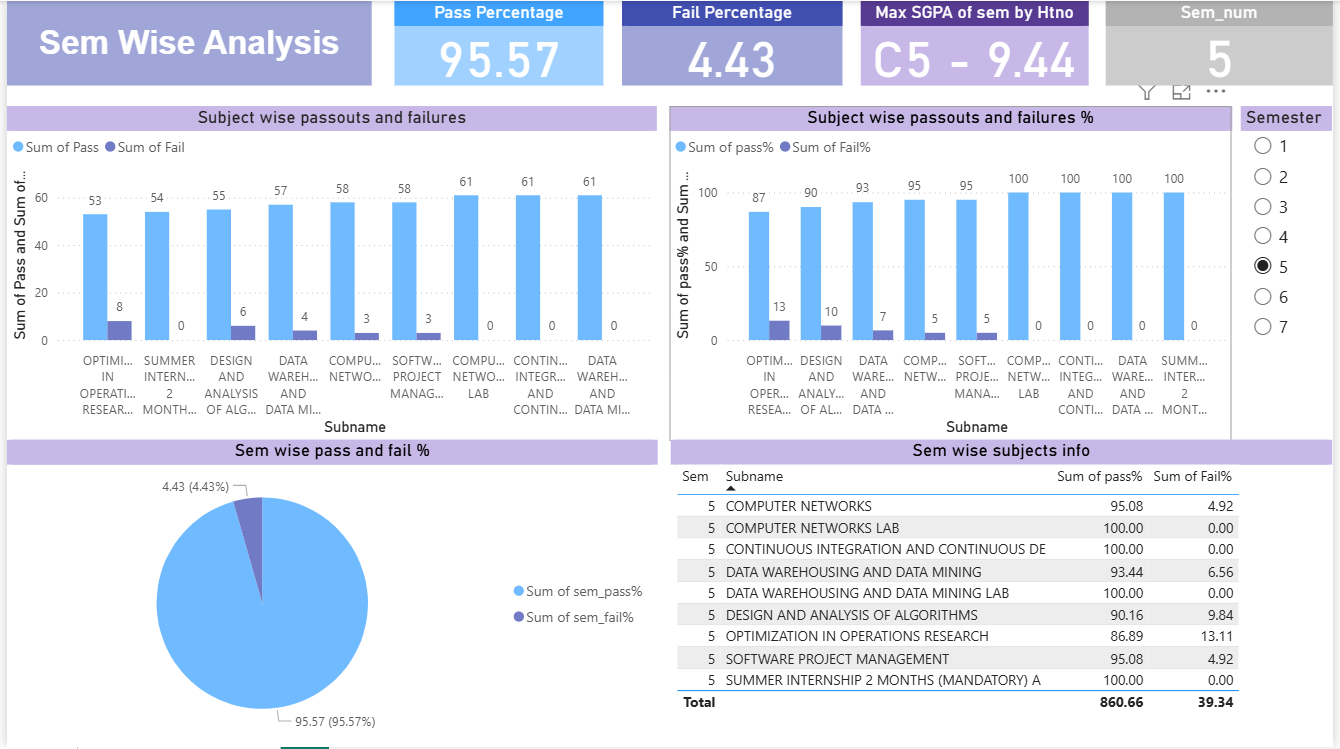

The dashboard page shown, as its layout file describes it:
{"tool":"powerbi","page":{"name":"Management_Analysis","canvas":[1280,720],"ordinal":1},"visuals":[{"type":"clusteredColumnChart","title":"Subject wise passouts and failures","fields":{"Category":["sem.Subname"],"Y":["Sum(sem.Pass)","Sum(sem.Fail)"]},"box":[0,101.5,627.3,322.8],"z":0},{"type":"clusteredColumnChart","title":"Subject wise passouts and failures %","fields":{"Category":["sem.Subname"],"Y":["Sum(subject_wise_performance.pass%)","Sum(subject_wise_performance.Fail%)"]},"box":[639.5,101.5,542.9,322.8],"z":1000},{"type":"pieChart","title":"Sem wise pass and fail %","fields":{"Y":["Sum(sem_percentage.Pass%)","Sum(sem_percentage.Fail%)"]},"box":[0,424,628.1,296.6],"z":2000},{"type":"slicer","title":"Semester","fields":{"Values":["sem_percentage.Sem"]},"box":[1191,101.5,88,322.8],"z":3000},{"type":"card","title":"Sem_num","fields":{"Values":["Max(sem_percentage.Sem)"]},"box":[1060.2,0,218.9,81.9],"z":4000},{"type":"tableEx","title":"Sem wise subjects info","fields":{"Values":["subject_wise_performance.Sem","subject_wise_performance.Subname","Sum(subject_wise_performance.pass%)","Sum(subject_wise_performance.Fail%)"]},"box":[640.4,424,638.6,296.6],"z":5000},{"type":"textbox","box":[0,0,352.2,81.9],"z":6000},{"type":"card","title":"Pass Percentage","fields":{"Values":["Sum(sem_wise_performance.sem_pass%)"]},"box":[374.2,0,201.8,81.9],"z":7000},{"type":"card","title":"Fail Percentage","fields":{"Values":["Sum(sem_wise_performance.sem_fail%)"]},"box":[593.1,0,212.8,81.9],"z":8000},{"type":"card","title":"Max SGPA of sem by Htno","fields":{"Values":["All_sems.Top_Performer"]},"box":[824.2,0,220.1,81.9],"z":8001}]}

Visuals, with their boxes in screenshot pixels (x1, y1, x2, y2), scaled from the page's 1280x720 canvas onto the 1340x749 screenshot:
"Subject wise passouts and failures" clusteredColumnChart: locate(0, 106, 657, 441)
"Subject wise passouts and failures %" clusteredColumnChart: locate(669, 106, 1238, 441)
"Sem wise pass and fail %" pieChart: locate(0, 441, 658, 748)
"Semester" slicer: locate(1247, 106, 1339, 441)
"Sem_num" card: locate(1110, 0, 1339, 85)
"Sem wise subjects info" tableEx: locate(670, 441, 1339, 748)
textbox: locate(0, 0, 369, 85)
"Pass Percentage" card: locate(392, 0, 603, 85)
"Fail Percentage" card: locate(621, 0, 844, 85)
"Max SGPA of sem by Htno" card: locate(863, 0, 1093, 85)
